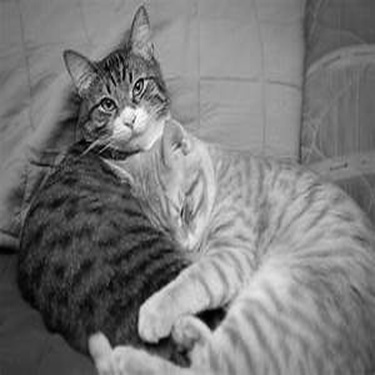cat: (76, 120, 368, 370), (16, 5, 213, 371)
